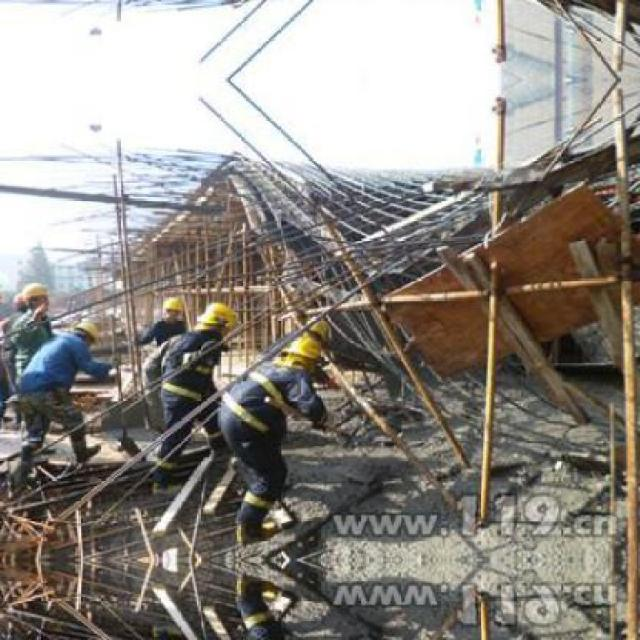helmet: (200, 305, 232, 329), (20, 278, 49, 300), (291, 337, 317, 361), (78, 320, 100, 345), (162, 297, 184, 314), (9, 292, 23, 310)
